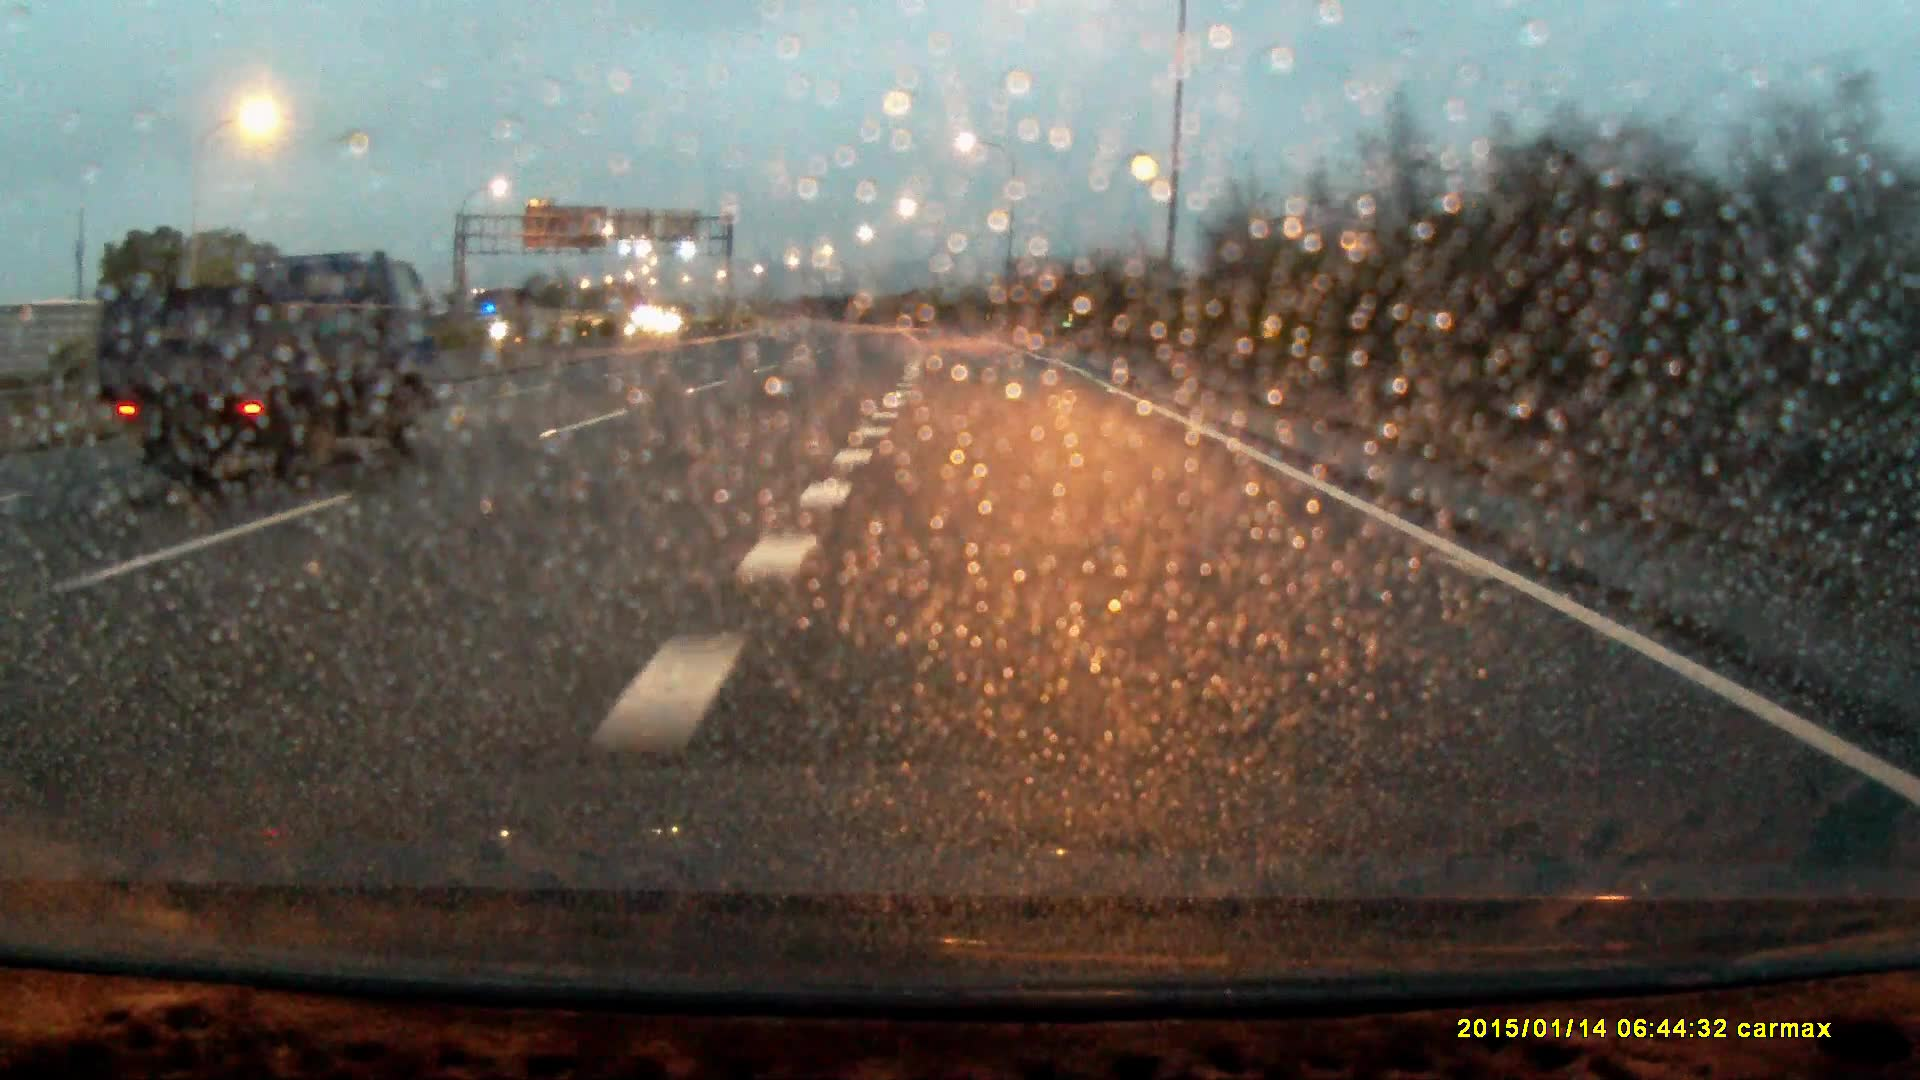vehicle: (113, 229, 422, 484)
